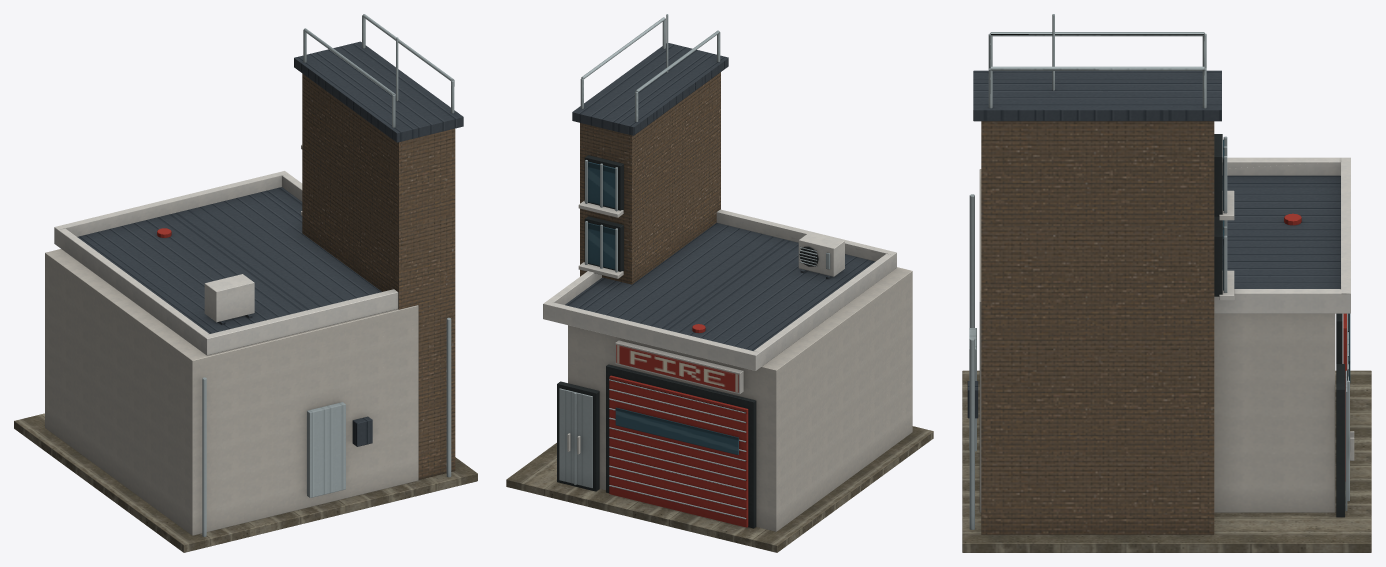
The model's file is public_002.obj.
3 renders of one model, left to right at view 1: azimuth 30°, elevation 25°; view 2: azimuth 150°, elevation 25°; view 3: azimuth 270°, elevation 25°, orthographic. The views are drawn at different scales.
Parts seen in each view (by area): view 1: public_002; view 2: public_002; view 3: public_002.
Part boxes in pixels (bbox=[...]): public_002: bbox=[14, 14, 477, 552]; public_002: bbox=[506, 14, 933, 552]; public_002: bbox=[962, 14, 1371, 552].
Bounding box in the file's own units: 6.5 × 9 × 6.5.
Materials: 1 (1 with a texture image).
